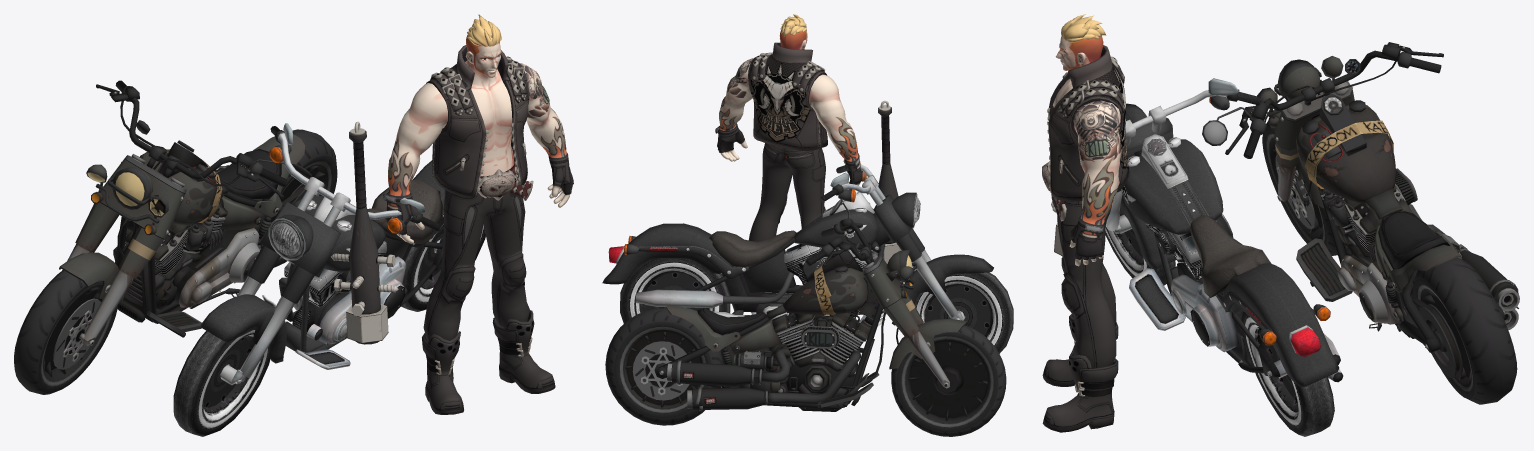
The model's file is Magnus.FBX.
3 views of the same model, side by side, from view 1: azimuth 30°, elevation 25°; view 2: azimuth 150°, elevation 25°; view 3: azimuth 270°, elevation 25° (orthographic). The views are drawn at different scales.
Visible parts, largest first — view 1: DirtyMac, Magnus_Body, HD_Fatboy, Weapon_Special_Magnus_01, Magnus_Face, Magnus_Hair; view 2: DirtyMac, HD_Fatboy, Magnus_Body, Weapon_Special_Magnus_01, Magnus_Face, Magnus_Hair; view 3: DirtyMac, HD_Fatboy, Magnus_Body, Magnus_Face, Magnus_Hair.
Boxes of the visible parts, x1,y1,x2,y2 form: DirtyMac: (14,80,337,394); Magnus_Body: (383,45,573,414); HD_Fatboy: (173,123,485,436); Weapon_Special_Magnus_01: (331,121,398,344); Magnus_Face: (465,35,501,77); Magnus_Hair: (467,14,501,46); DirtyMac: (605,199,1006,436); HD_Fatboy: (602,155,1013,353); Magnus_Body: (715,42,862,284); Weapon_Special_Magnus_01: (872,100,913,263); Magnus_Face: (779,30,807,49); Magnus_Hair: (780,14,806,36); DirtyMac: (1202,42,1519,404); HD_Fatboy: (1105,78,1343,436); Magnus_Body: (1042,45,1129,432); Magnus_Face: (1055,35,1103,70); Magnus_Hair: (1061,14,1106,42).
Size of the model in its own units: 2.6 by 1.87 by 2.06.
